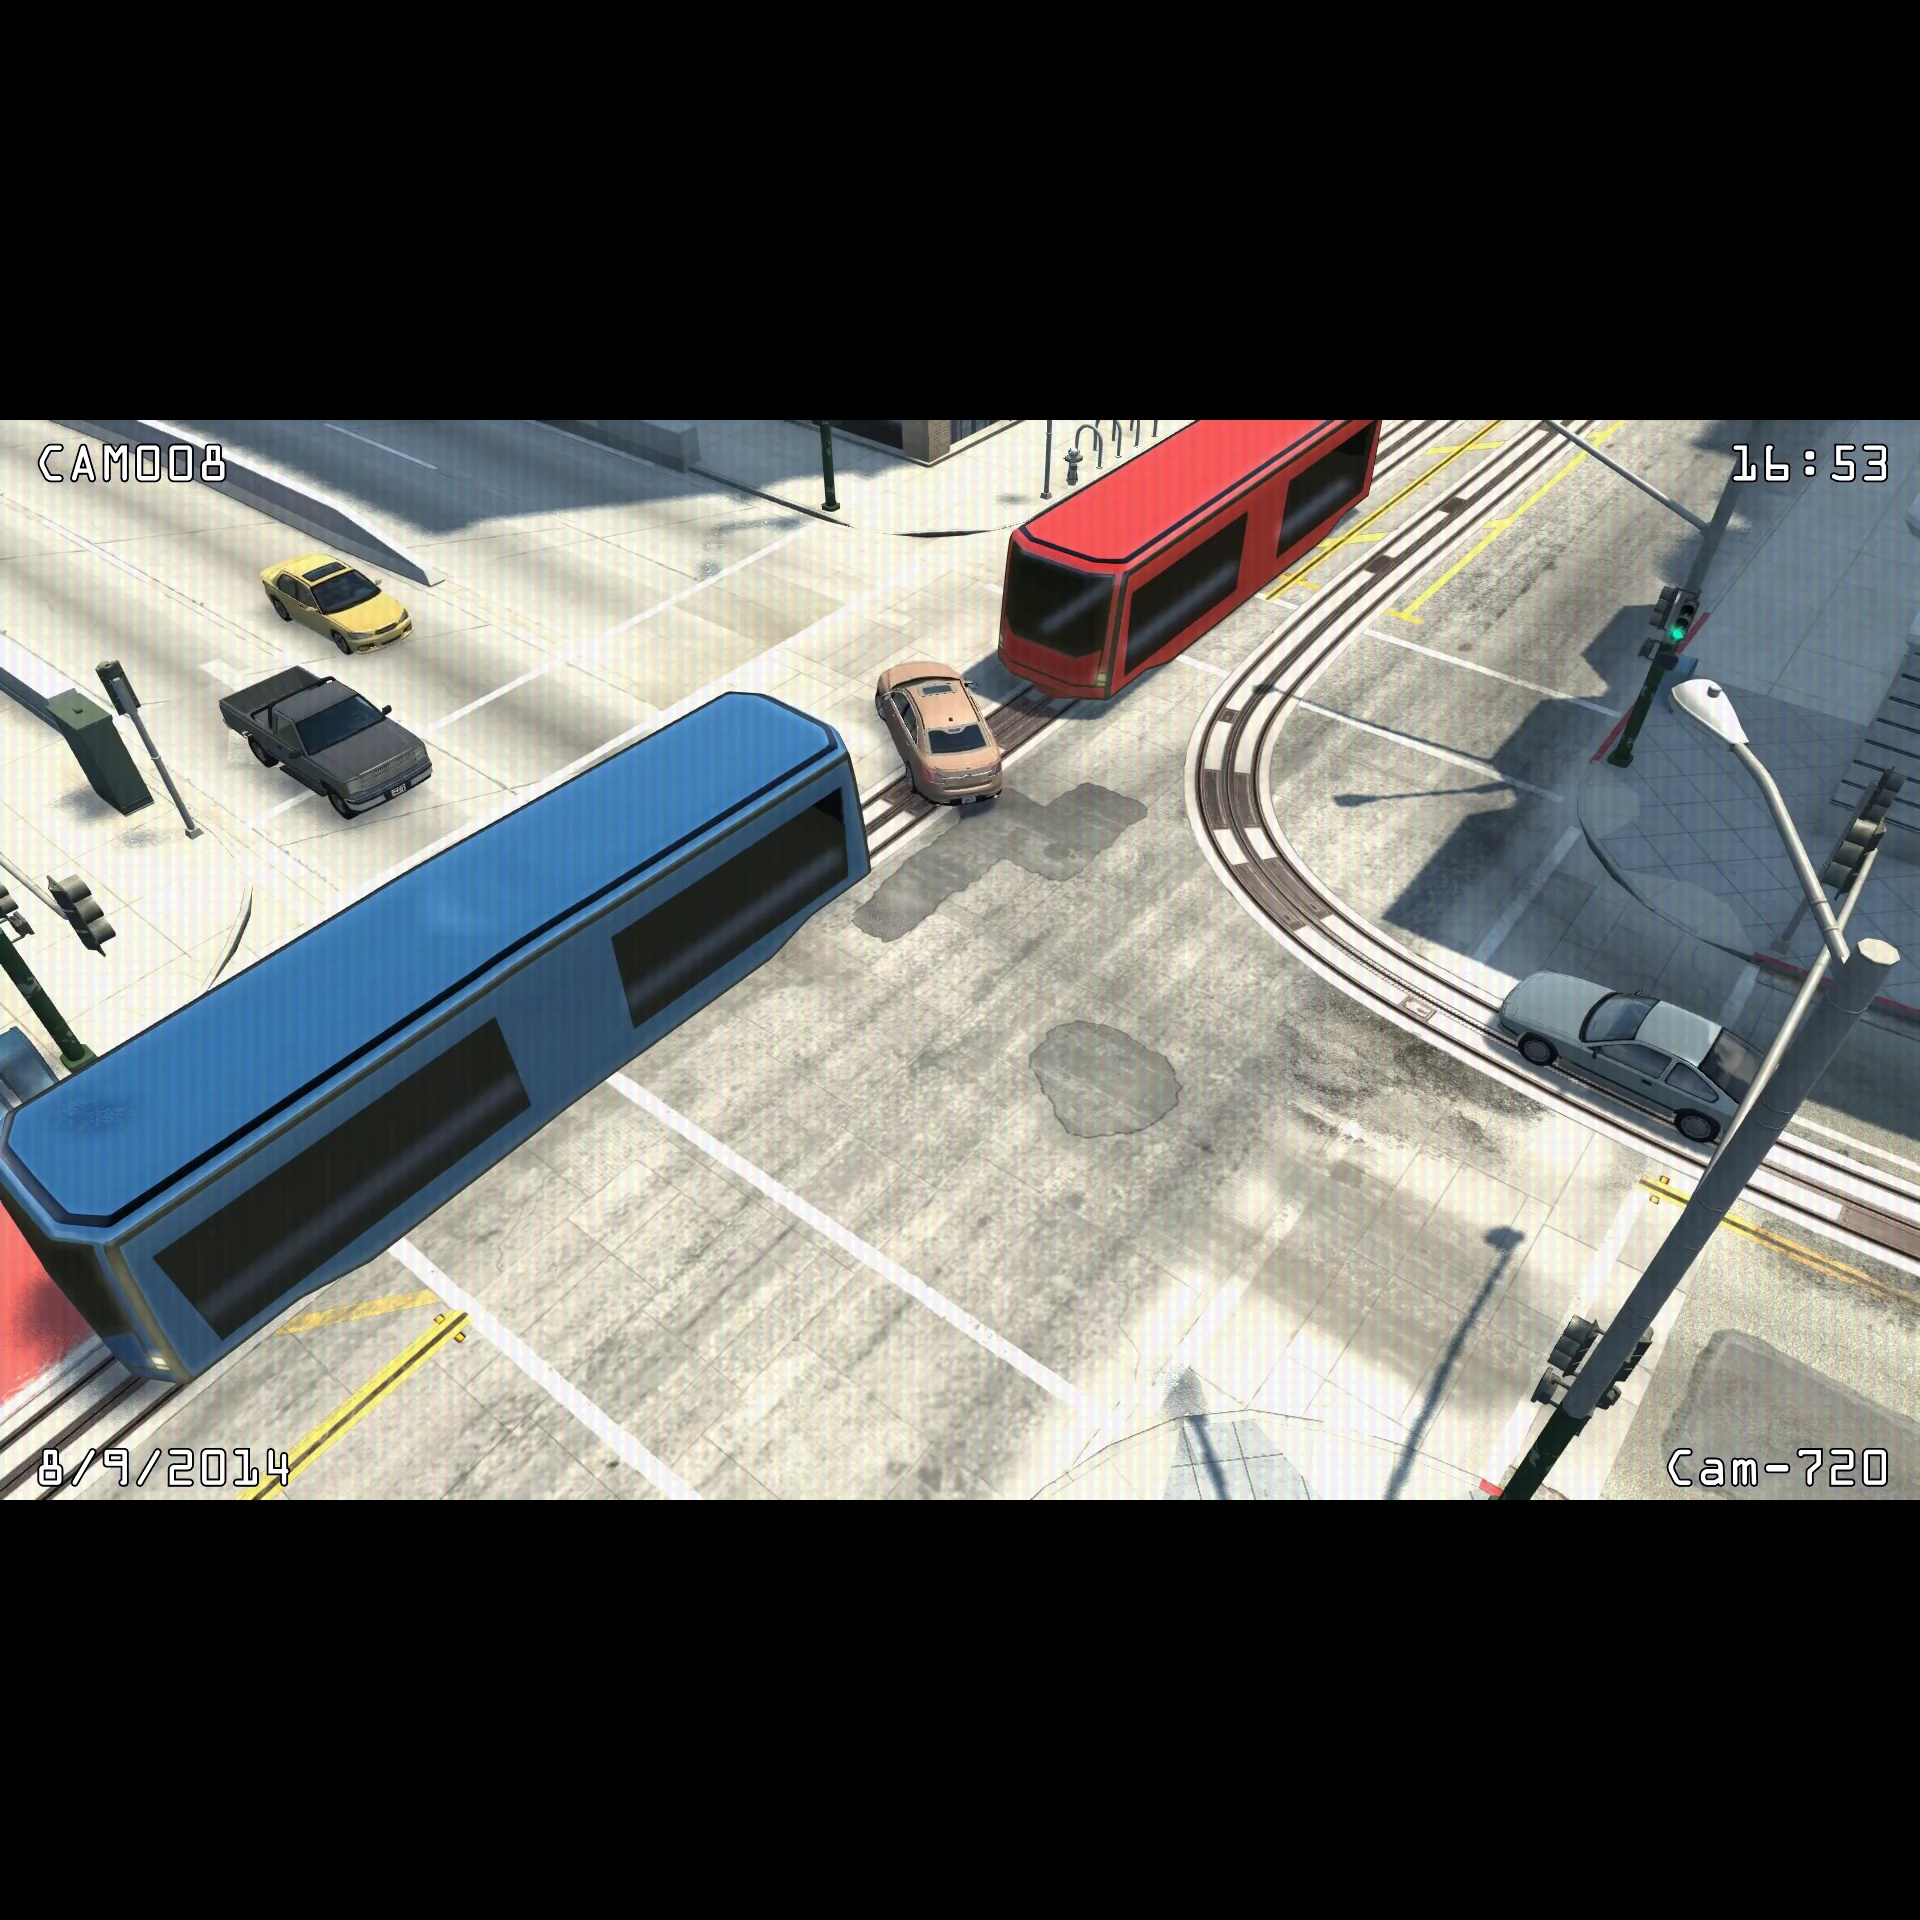vehicle: (2, 687, 879, 1389), (988, 422, 1387, 710), (1480, 958, 1765, 1141), (215, 661, 438, 818), (874, 652, 1007, 816), (258, 549, 415, 656)
